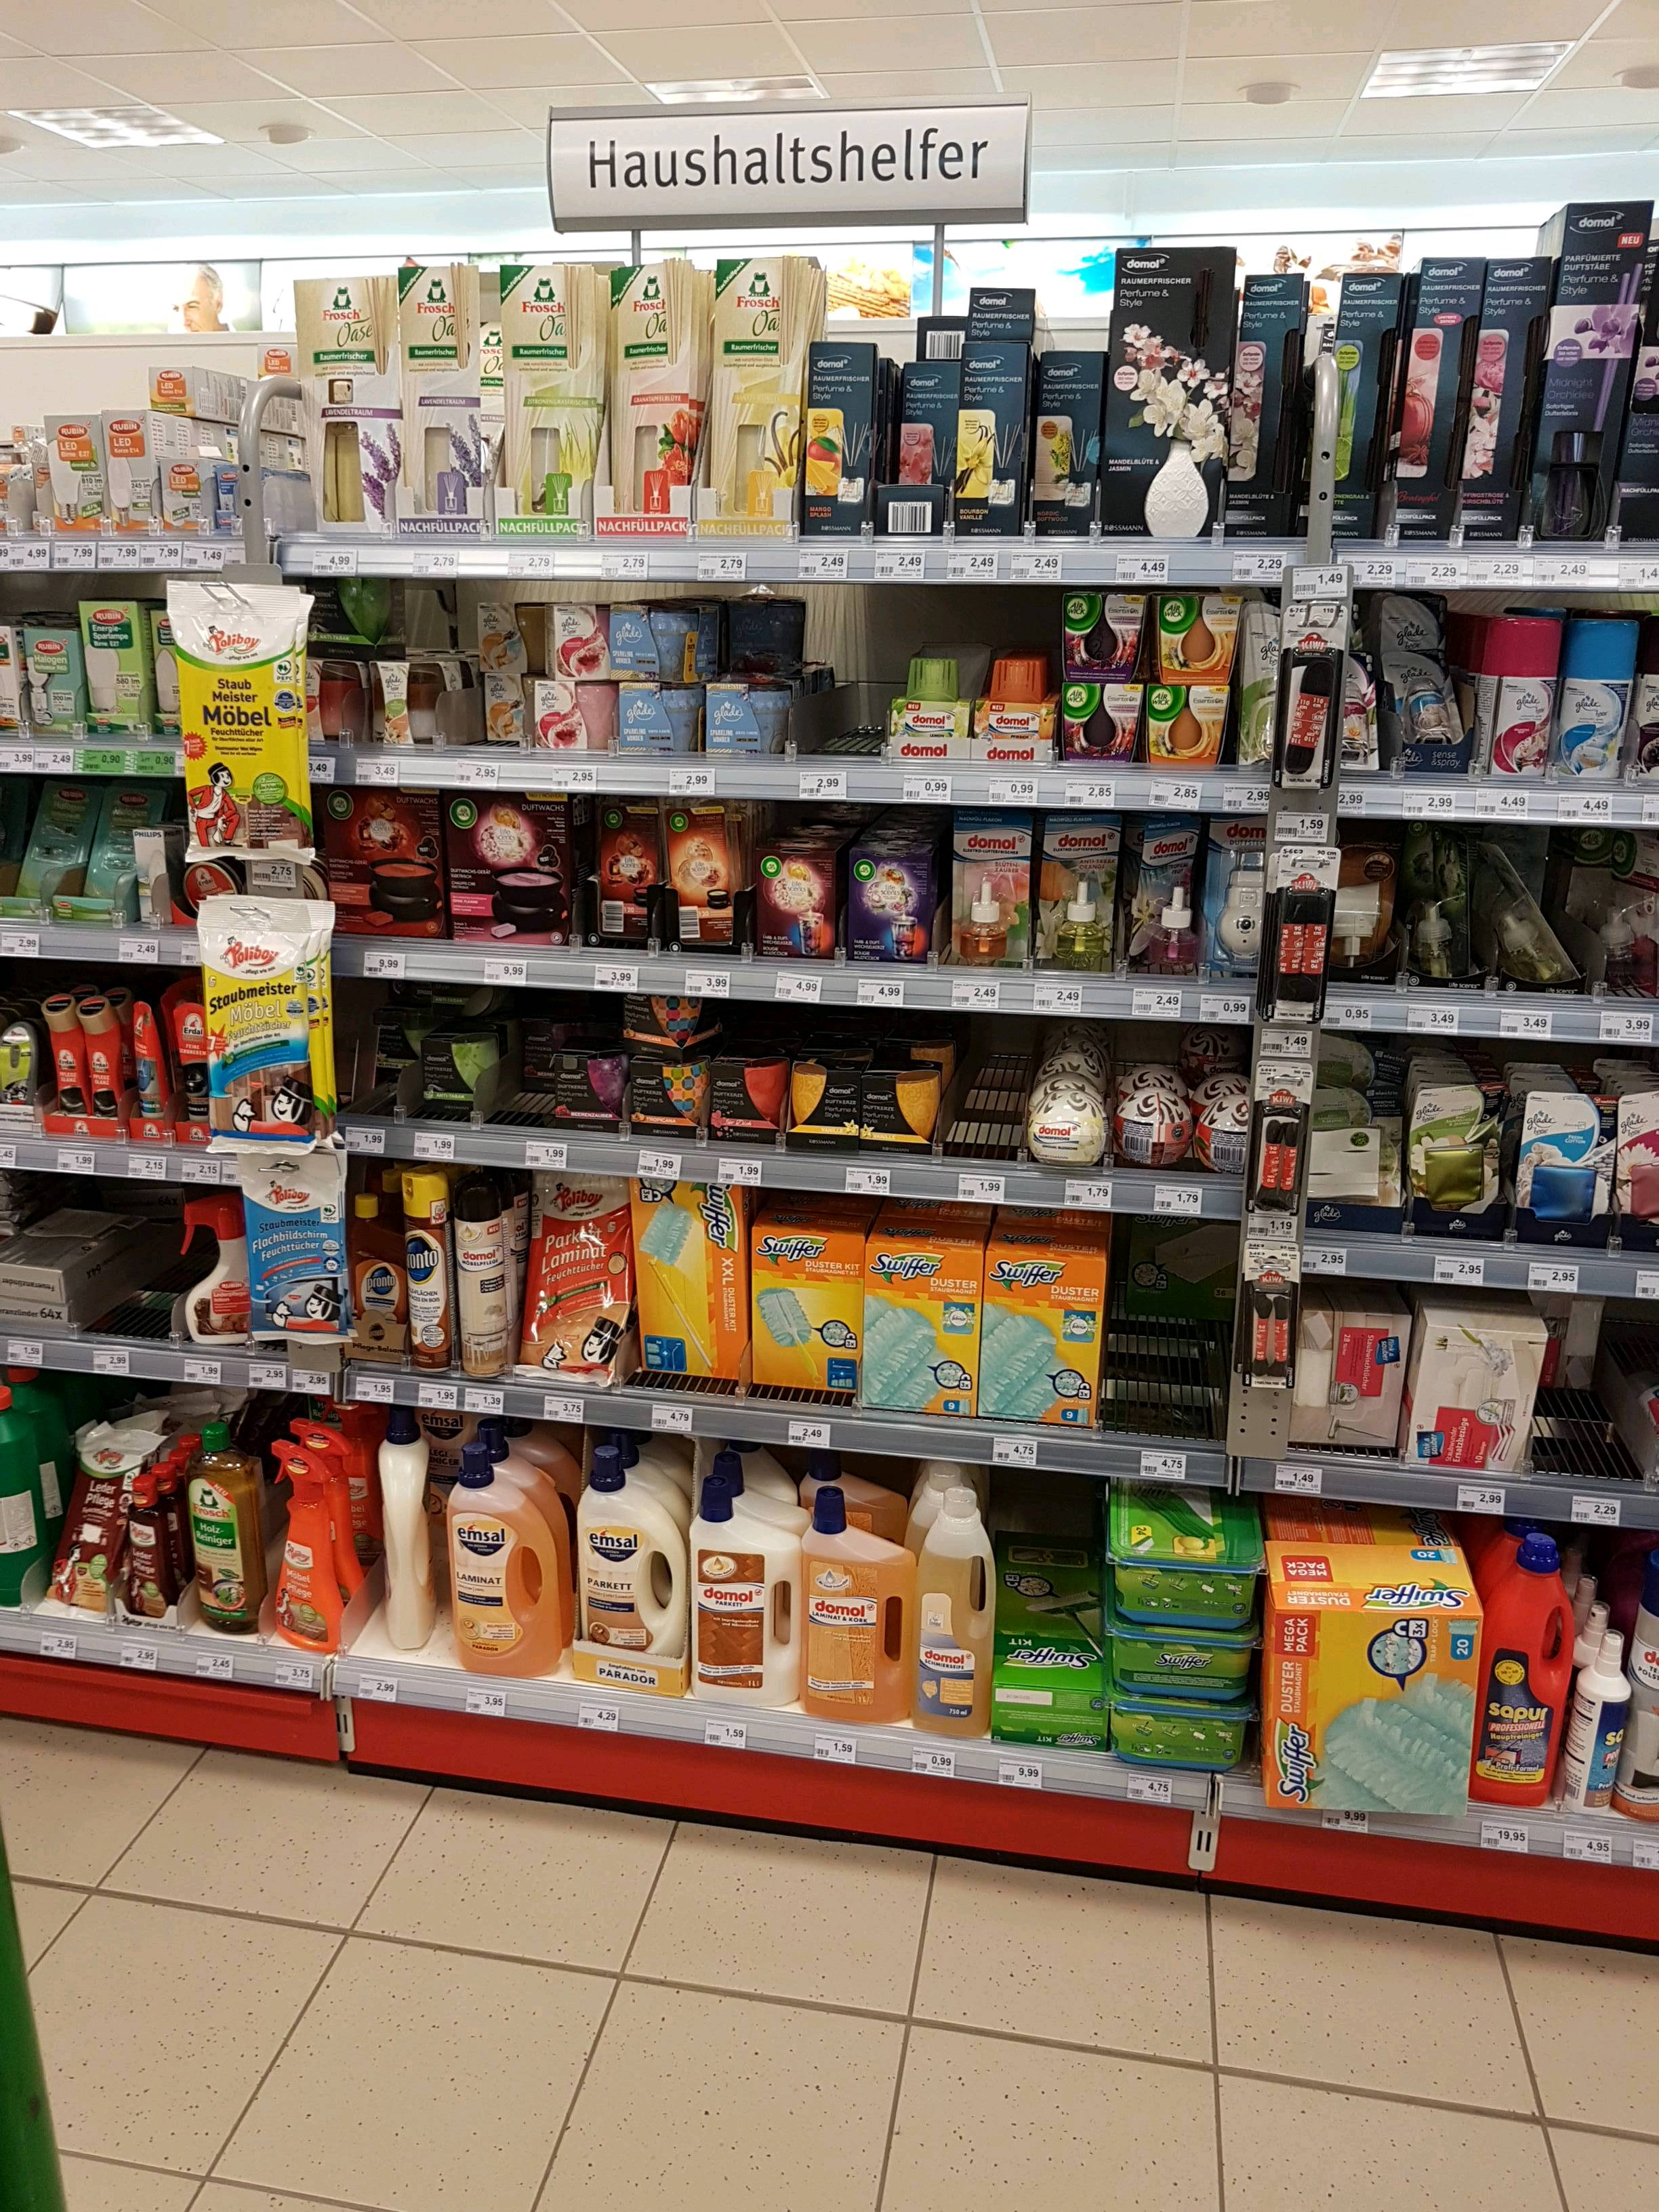product: (1272, 1606, 1460, 1818), (1107, 246, 1220, 540), (178, 596, 289, 855), (575, 1442, 688, 1691), (805, 1486, 917, 1731), (690, 1468, 802, 1712), (444, 1442, 558, 1681), (1542, 199, 1619, 550), (209, 897, 322, 1127), (397, 258, 490, 536), (701, 261, 795, 531), (1483, 1533, 1568, 1825), (497, 254, 584, 540), (293, 275, 383, 540), (593, 263, 680, 535), (985, 1244, 1098, 1428), (634, 1177, 735, 1379), (861, 1235, 972, 1418), (1410, 1313, 1527, 1475), (450, 789, 568, 948), (528, 1176, 617, 1386), (755, 1219, 856, 1397), (242, 1157, 343, 1334), (922, 1494, 990, 1749), (1467, 256, 1527, 545), (1399, 256, 1457, 543), (1310, 268, 1370, 545), (1227, 268, 1288, 535), (268, 1439, 340, 1663), (1300, 1303, 1398, 1460), (324, 791, 430, 934), (796, 334, 870, 535), (1410, 1092, 1506, 1240), (186, 1423, 253, 1637), (1509, 1092, 1601, 1242), (957, 343, 1026, 540), (376, 1406, 427, 1660), (1310, 1092, 1399, 1235), (664, 794, 744, 949), (1126, 1214, 1234, 1324), (457, 1176, 516, 1374), (1554, 618, 1624, 782), (1039, 817, 1115, 965), (1473, 618, 1544, 777), (896, 355, 957, 540), (1112, 1545, 1255, 1622), (1037, 350, 1094, 535), (345, 1197, 406, 1366), (951, 806, 1018, 961), (61, 1442, 115, 1632), (1107, 1625, 1244, 1698), (1493, 846, 1560, 996), (1330, 829, 1394, 979), (1575, 1632, 1628, 1817), (1262, 866, 1321, 1028), (176, 1195, 240, 1343), (974, 648, 1060, 759), (849, 843, 925, 965), (75, 596, 139, 740), (1272, 637, 1331, 794), (1413, 833, 1473, 986), (1202, 817, 1256, 981), (1121, 1700, 1244, 1771), (596, 792, 653, 946), (410, 1165, 451, 1369), (990, 1676, 1100, 1752), (1133, 826, 1192, 967), (758, 846, 831, 960), (1603, 833, 1657, 984), (1389, 653, 1459, 768), (892, 655, 967, 758), (1065, 592, 1145, 685), (606, 606, 704, 679), (1253, 1083, 1305, 1217), (125, 1475, 169, 1632), (44, 408, 96, 536), (1243, 1249, 1290, 1392), (627, 1057, 702, 1143), (31, 779, 77, 914), (786, 1068, 856, 1155), (1154, 601, 1232, 678), (1143, 690, 1220, 768), (376, 655, 443, 745), (708, 1061, 779, 1144), (704, 681, 777, 758), (24, 629, 73, 744), (1063, 686, 1133, 766), (105, 409, 150, 531), (1026, 1101, 1103, 1172), (1110, 1097, 1187, 1169), (91, 786, 132, 914), (725, 592, 798, 665), (863, 1076, 932, 1151), (619, 685, 695, 752), (131, 998, 167, 1139), (85, 998, 120, 1144), (535, 681, 606, 751), (425, 1042, 497, 1111), (45, 995, 80, 1134), (554, 1050, 619, 1123), (174, 1003, 209, 1136), (622, 993, 702, 1050), (1195, 1097, 1251, 1176), (547, 606, 601, 679), (0, 1024, 35, 1130), (132, 826, 169, 927), (964, 284, 1030, 340), (477, 601, 532, 669), (160, 448, 204, 529), (483, 676, 530, 744), (0, 1299, 75, 1332), (0, 1258, 66, 1294), (143, 366, 192, 411)
